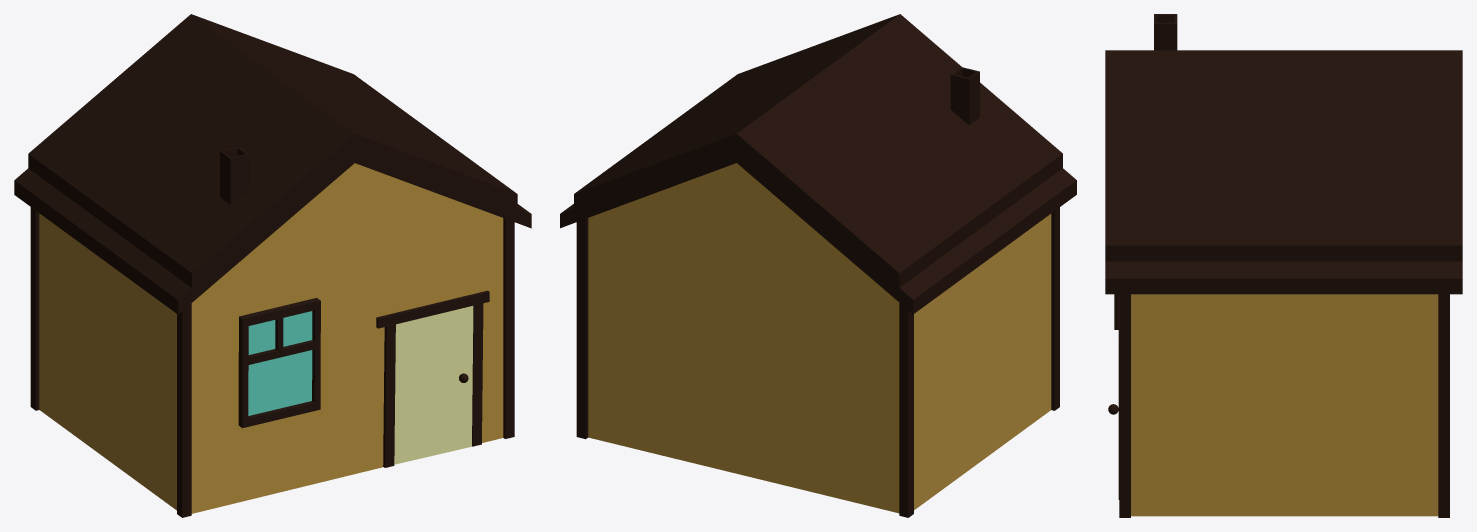
The model's file is FarmHouse.FBX.
The picture shows the model from 3 angles, left to right: view 1: azimuth 30°, elevation 25°; view 2: azimuth 150°, elevation 25°; view 3: azimuth 270°, elevation 25°; orthographic projection. The views are drawn at different scales.
Parts seen in each view (by area): view 1: Box001, Box009, Box011, Box003, Box002, Box005, Box007, Box008, Box010, Box006; view 2: Box001, Box005, Box004, Box003, Box010; view 3: Box001, Box002, Box004, Box010.
Part boxes in pixels (x1=…): Box001: x1=14, y1=14, x2=531, y2=513; Box009: x1=394, y1=306, x2=473, y2=464; Box011: x1=238, y1=298, x2=320, y2=428; Box003: x1=177, y1=303, x2=191, y2=517; Box002: x1=503, y1=218, x2=514, y2=438; Box005: x1=30, y1=207, x2=39, y2=410; Box007: x1=383, y1=319, x2=395, y2=467; Box008: x1=472, y1=298, x2=483, y2=446; Box010: x1=220, y1=146, x2=249, y2=204; Box006: x1=376, y1=290, x2=489, y2=328; Box001: x1=560, y1=14, x2=1076, y2=513; Box005: x1=899, y1=303, x2=913, y2=517; Box004: x1=576, y1=218, x2=588, y2=439; Box003: x1=1051, y1=207, x2=1059, y2=410; Box010: x1=950, y1=67, x2=979, y2=125; Box001: x1=1105, y1=50, x2=1462, y2=516; Box002: x1=1119, y1=294, x2=1130, y2=517; Box004: x1=1438, y1=294, x2=1449, y2=517; Box010: x1=1154, y1=14, x2=1177, y2=50.
Size of the model in its own units: 76 by 71.53 by 61.
